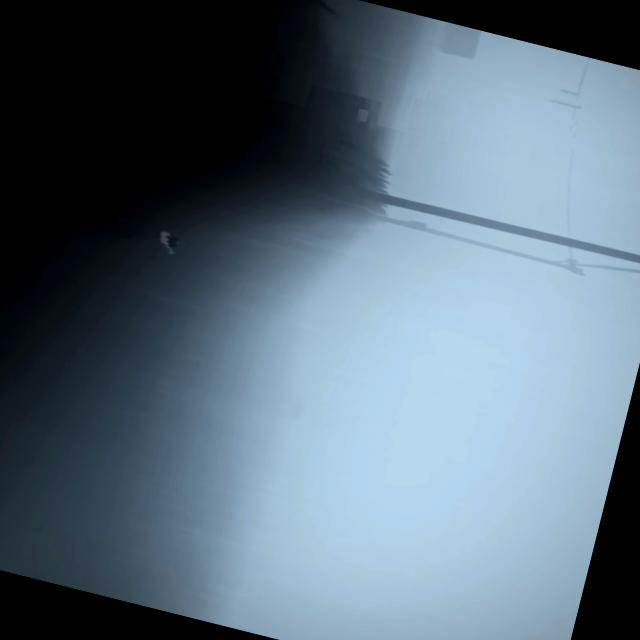boy: (148, 229, 180, 253)
